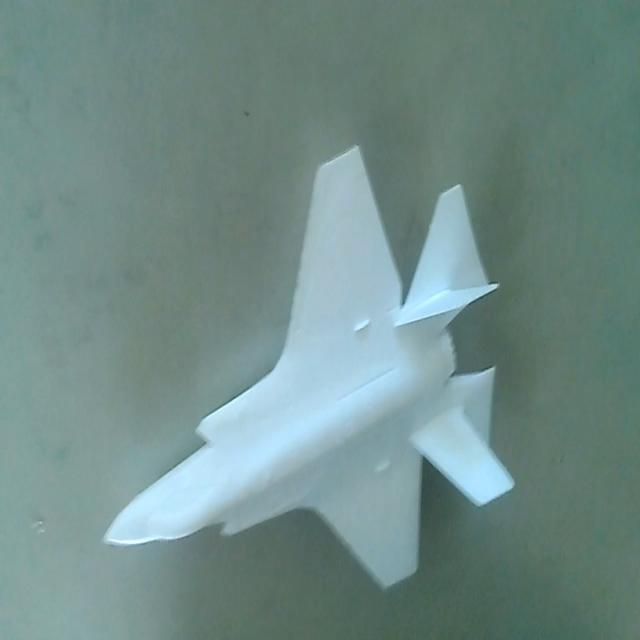Jet: (95, 142, 518, 598)
